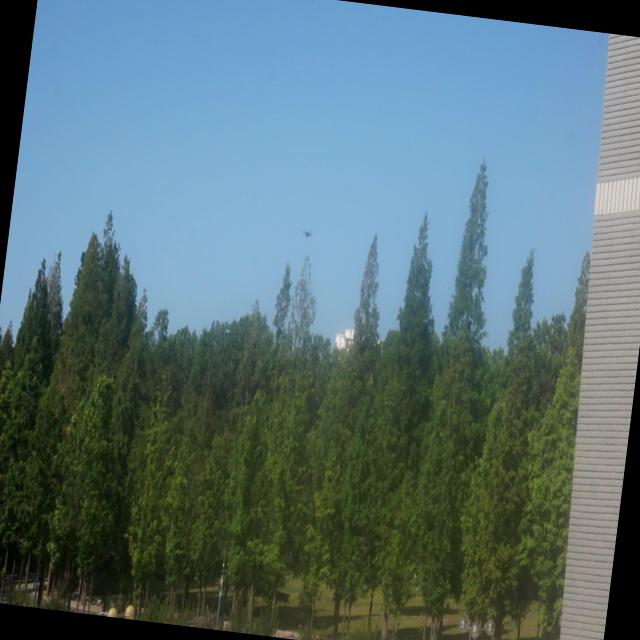drone: (301, 224, 314, 243)
